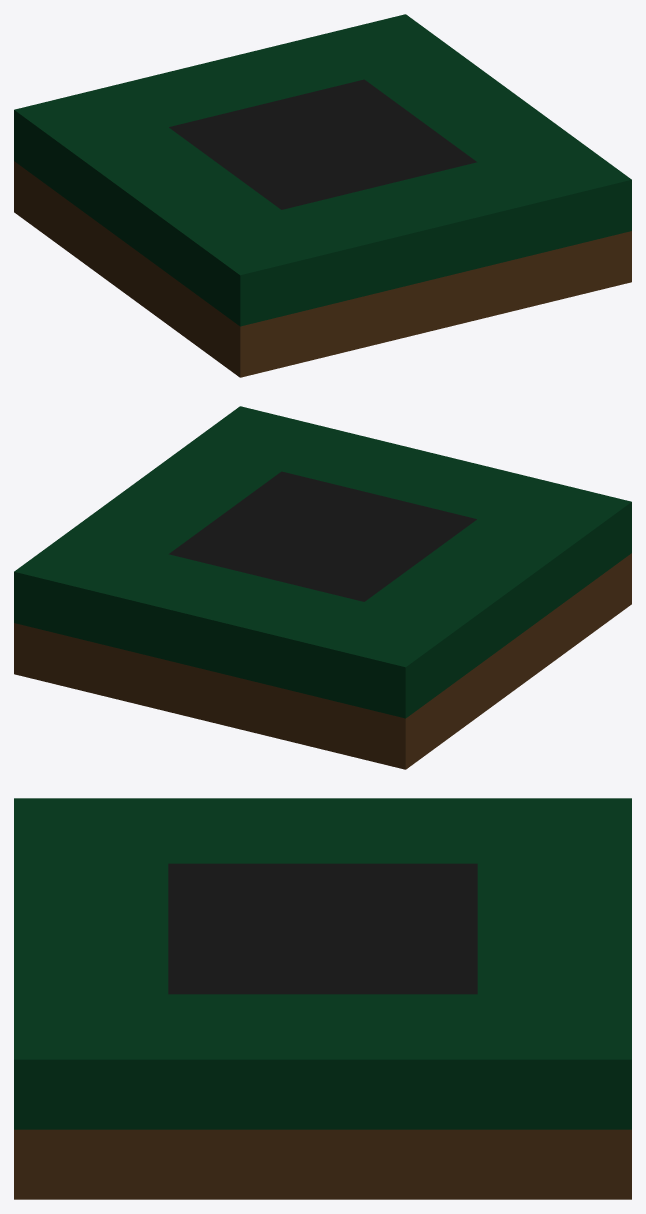
The model's file is Block_1.fbx.
The picture shows the model from 3 angles, top to bottom: view 1: azimuth 30°, elevation 25°; view 2: azimuth 150°, elevation 25°; view 3: azimuth 270°, elevation 25°; orthographic projection. The views are drawn at different scales.
Visible parts, largest first — view 1: Block_1; view 2: Block_1; view 3: Block_1.
Boxes of the visible parts, x1=… form: Block_1: x1=14, y1=14, x2=631, y2=377; Block_1: x1=14, y1=406, x2=631, y2=769; Block_1: x1=14, y1=798, x2=631, y2=1199.
Bounding box in the file's own units: 400 × 100 × 400.
